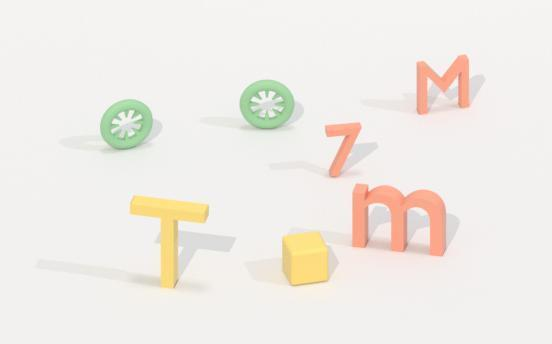chu_khoi: (130, 196, 208, 287), (352, 184, 445, 255), (416, 55, 469, 114)
dia_sao: (240, 80, 294, 128), (100, 99, 152, 148)
lap_phuong: (282, 231, 328, 284)
so_khoi: (325, 122, 362, 177)
